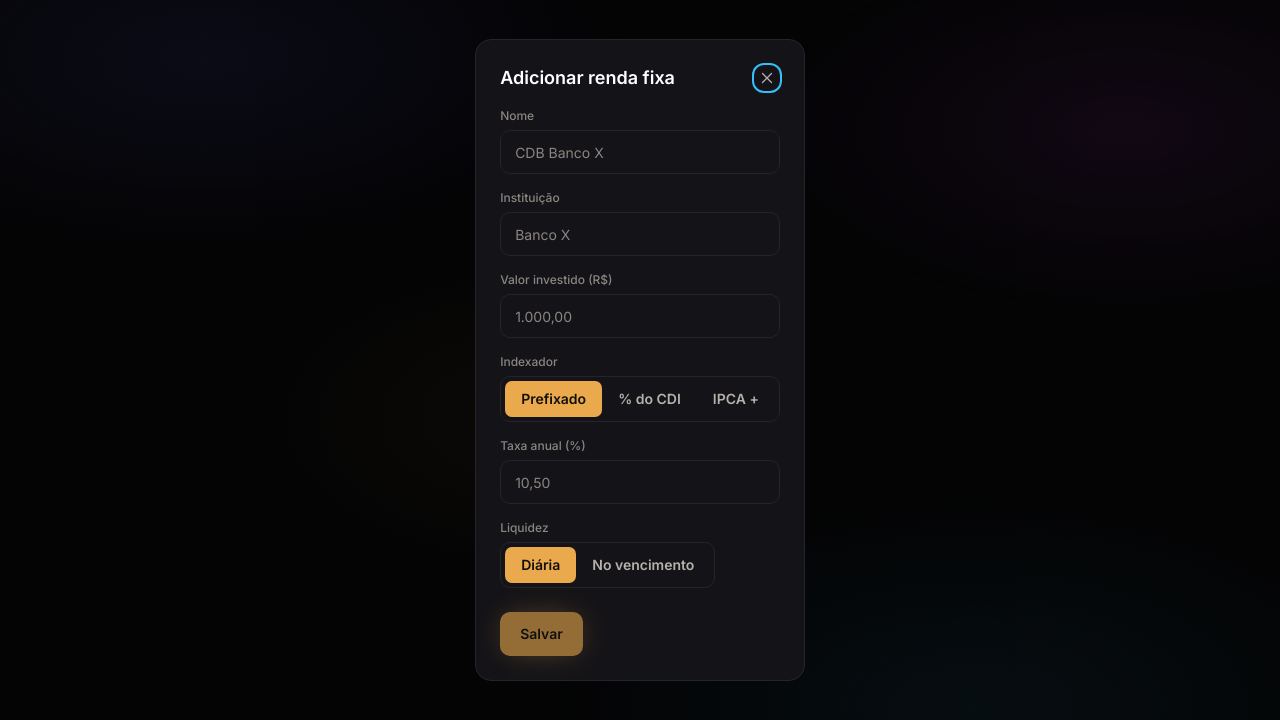
FixedIncomeForm — indexer picker & rate label (SPEC-211 FR-2116) › switching to % do CDI relabels the rate input and shows the live reference
The width and height of the screenshot is (1280, 720).
Click the radio button labelled "% do CDI": x=649, y=399 [602,381,697,417]
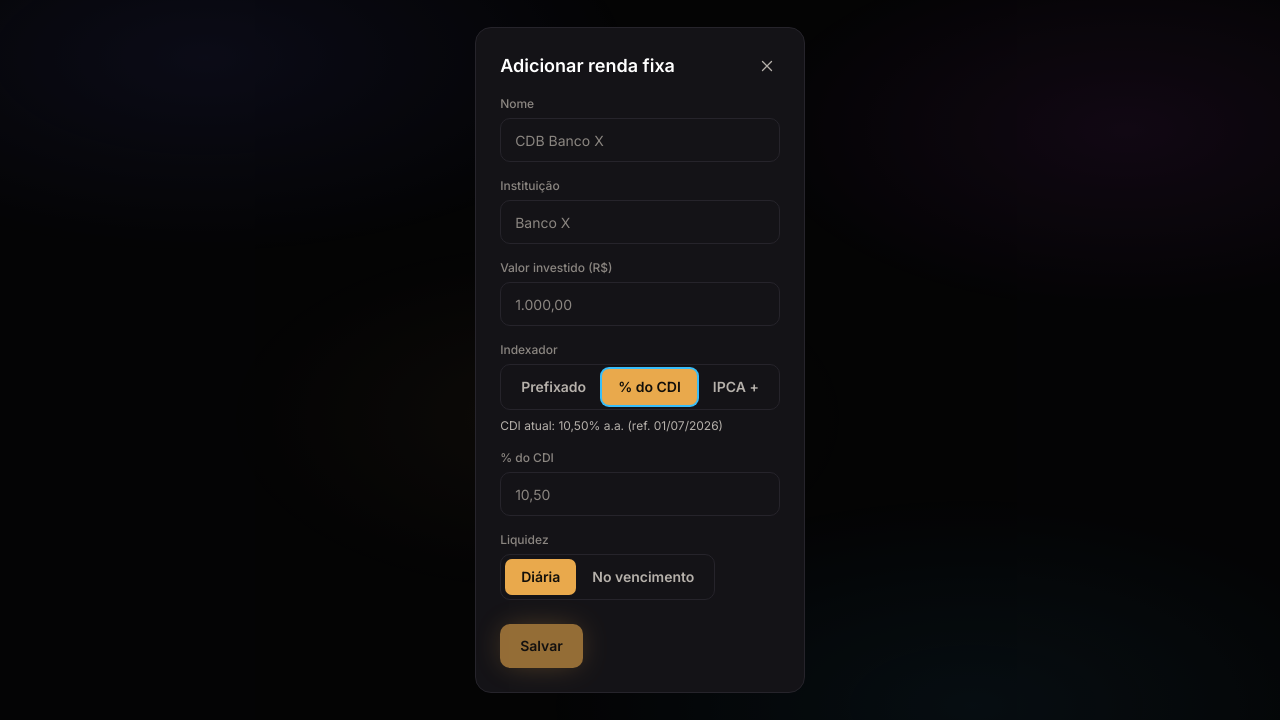
expect the field labelled "% do CDI" is shown: met, box [500,472,780,516]
expect the text "CDI atual: 10,50% a.a. (ref. 01/07/2026)" is shown: met, box [500,418,723,433]
